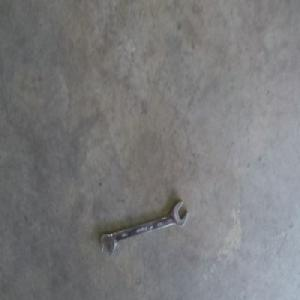Wrench: (99, 203, 188, 262)
